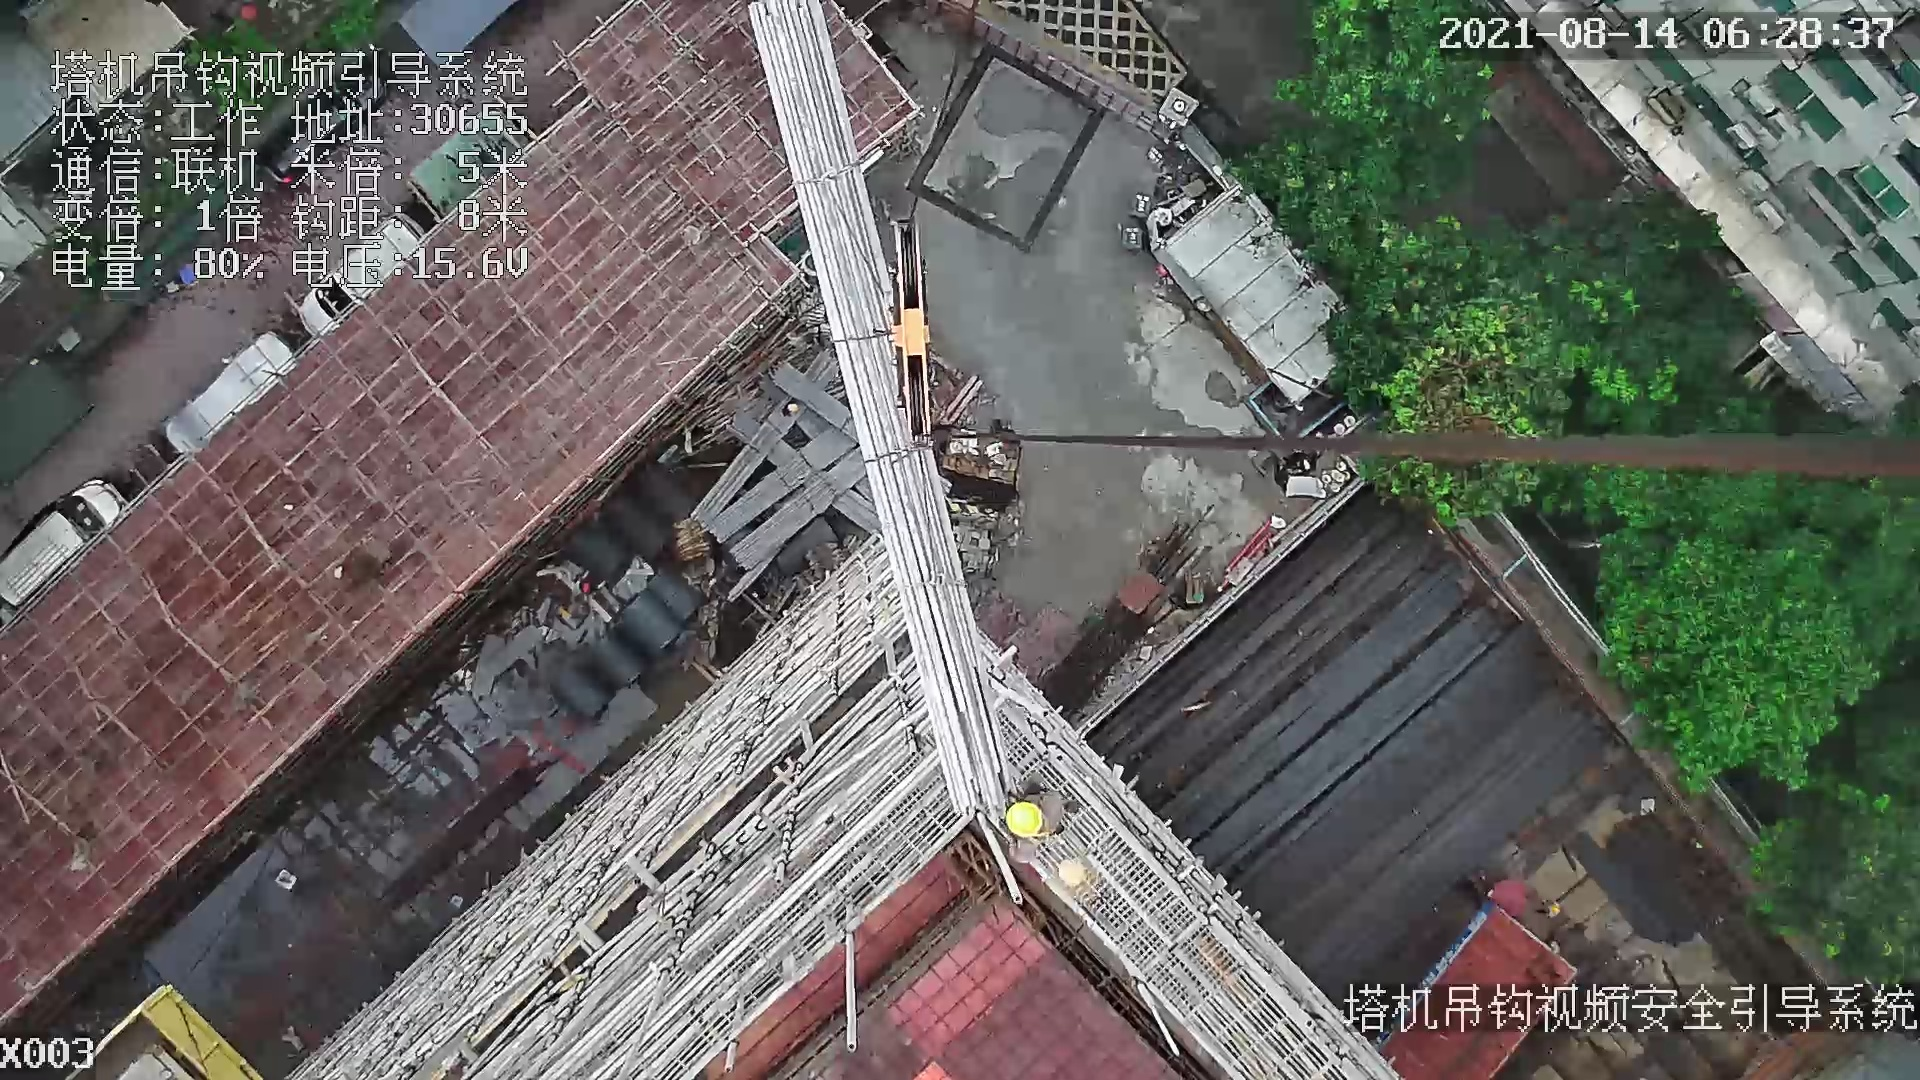helmet: (1001, 797, 1053, 840)
hook: (891, 215, 939, 454)
person: (1004, 777, 1068, 865)
